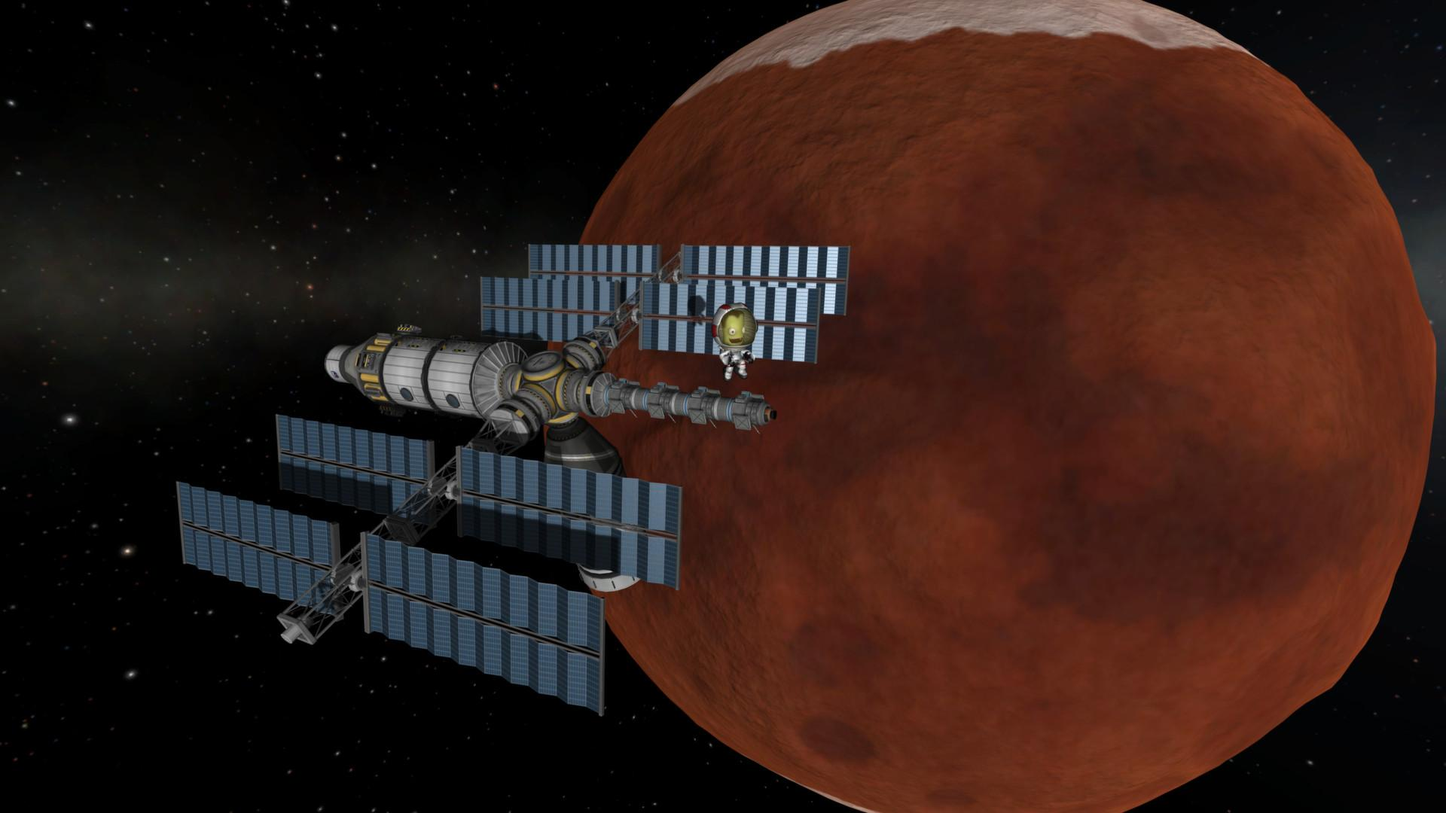body: (324, 327, 779, 444)
solar: (351, 533, 604, 718), (453, 449, 681, 589), (172, 482, 337, 610), (637, 280, 816, 361), (273, 414, 433, 499), (679, 243, 847, 317), (476, 274, 616, 335), (514, 242, 658, 276)
thruster: (752, 396, 786, 427), (278, 623, 304, 646)
